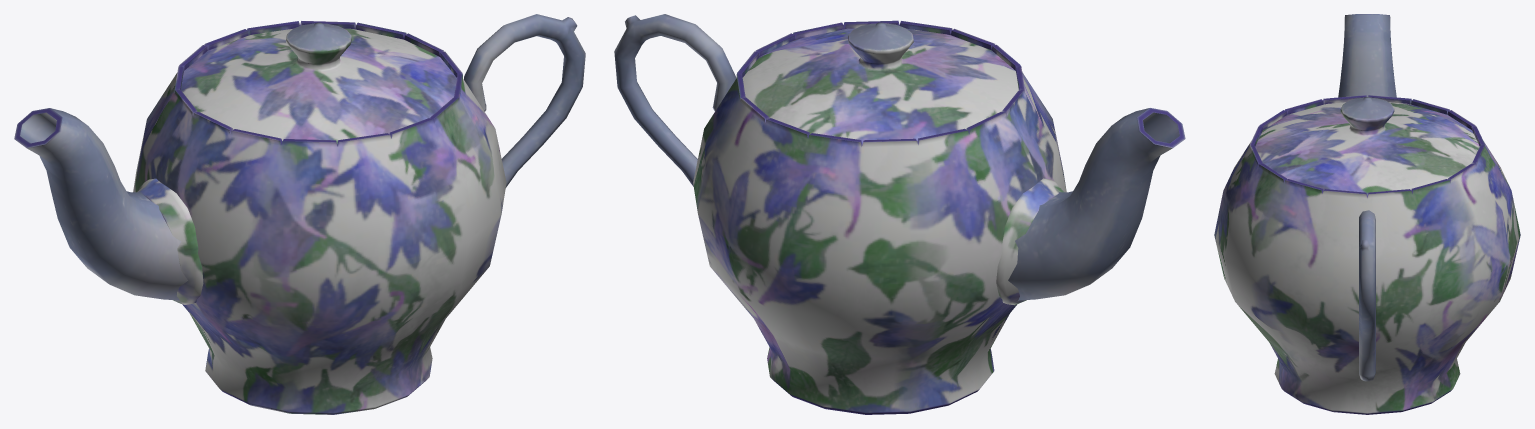
Rendered from SM_Teaset_Teapot.glb.
3 views of the same model, side by side, from view 1: azimuth 30°, elevation 25°; view 2: azimuth 150°, elevation 25°; view 3: azimuth 270°, elevation 25° (orthographic). The views are drawn at different scales.
Parts seen in each view (by area): view 1: SM_Teaset_Teapot; view 2: SM_Teaset_Teapot; view 3: SM_Teaset_Teapot.
Boxes of the visible parts, <box> form: SM_Teaset_Teapot: <box>14,14,585,414</box>; SM_Teaset_Teapot: <box>614,14,1185,414</box>; SM_Teaset_Teapot: <box>1214,14,1520,414</box>.
Size of the model in its own units: 0.2057 by 0.1201 by 0.1196.
1 material, 1 textured.
